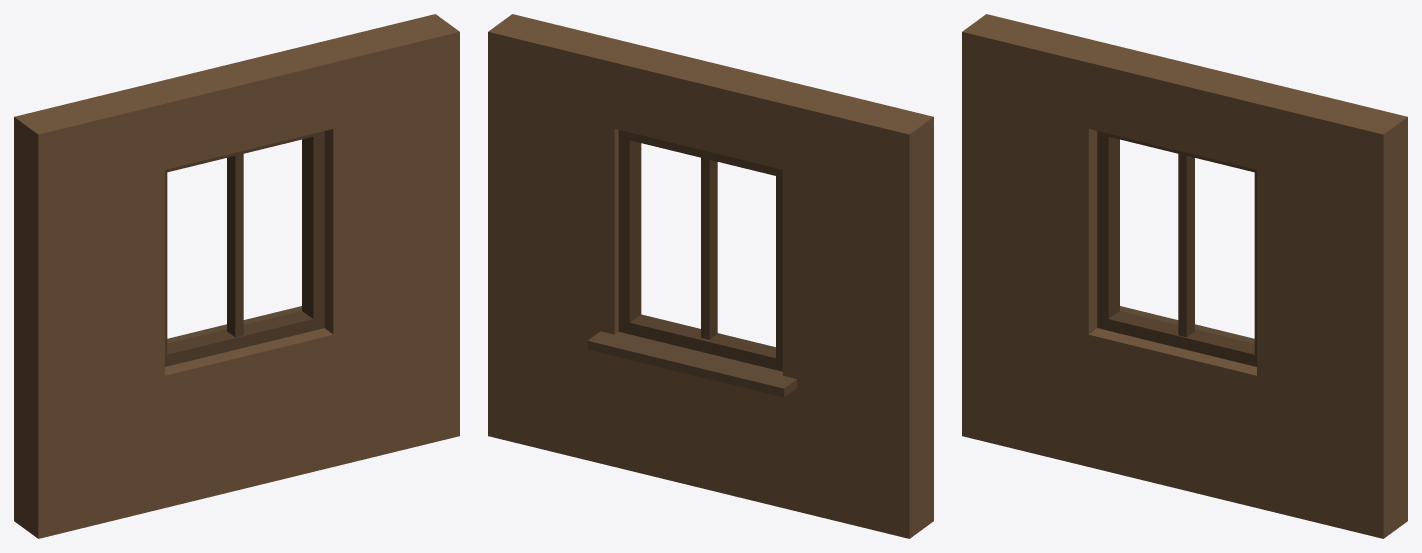
File: Kit_wood_window.fbx
3 renders of one model, left to right at view 1: azimuth 30°, elevation 25°; view 2: azimuth 150°, elevation 25°; view 3: azimuth 330°, elevation 25°, orthographic.
Parts seen in each view (by area): view 1: WallJambL, WallJambR, WallBelow, WallAbove, FrameR, FrameBottom, Mullion, Sill, FrameTop, FrameL; view 2: WallJambL, WallJambR, WallBelow, WallAbove, Sill, FrameR, FrameBottom, Mullion, FrameL, FrameTop; view 3: WallJambR, WallJambL, WallBelow, WallAbove, FrameL, FrameBottom, Mullion, Sill, FrameTop, FrameR.
Boxes of the visible parts, x1,y1,x2,y2 form: WallJambL: (14, 86, 164, 538); WallJambR: (309, 14, 459, 466); WallBelow: (165, 328, 333, 507); WallAbove: (141, 45, 333, 169); FrameR: (302, 131, 324, 328); FrameBottom: (165, 311, 324, 366); Mullion: (227, 154, 243, 337); Sill: (167, 306, 301, 343); FrameTop: (165, 131, 324, 172); FrameL: (165, 169, 167, 366); WallJambL: (783, 86, 933, 538); WallJambR: (488, 14, 638, 466); WallBelow: (614, 356, 782, 507); WallAbove: (614, 45, 806, 169); Sill: (587, 331, 797, 397); FrameR: (618, 130, 641, 333); FrameBottom: (618, 314, 775, 369); Mullion: (701, 158, 717, 339); FrameL: (776, 168, 782, 371); FrameTop: (626, 131, 780, 175); WallJambR: (1257, 86, 1407, 538); WallJambL: (962, 14, 1112, 466); WallBelow: (1088, 328, 1256, 507); WallAbove: (1088, 45, 1280, 169); FrameL: (1097, 131, 1119, 330); FrameBottom: (1097, 311, 1256, 366); Mullion: (1178, 154, 1194, 337); Sill: (1120, 306, 1254, 343); FrameTop: (1097, 131, 1256, 172); FrameR: (1254, 169, 1256, 355).
Size of the model in its own units: 300 by 46 by 275.
